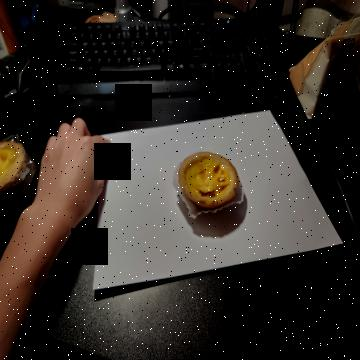EggTart: (179, 152, 239, 210)
